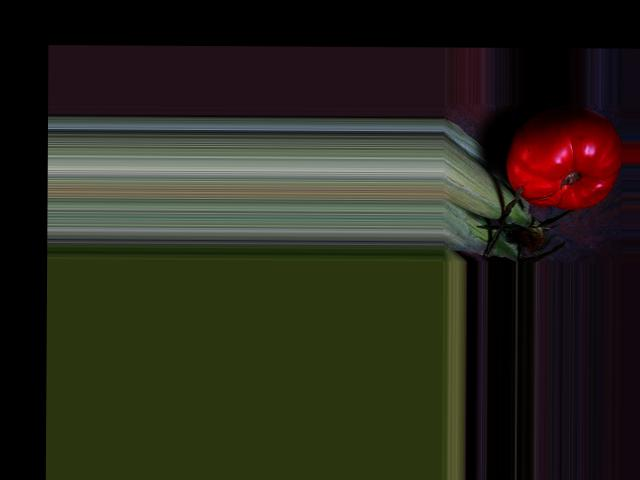tomato: (505, 104, 621, 210)
